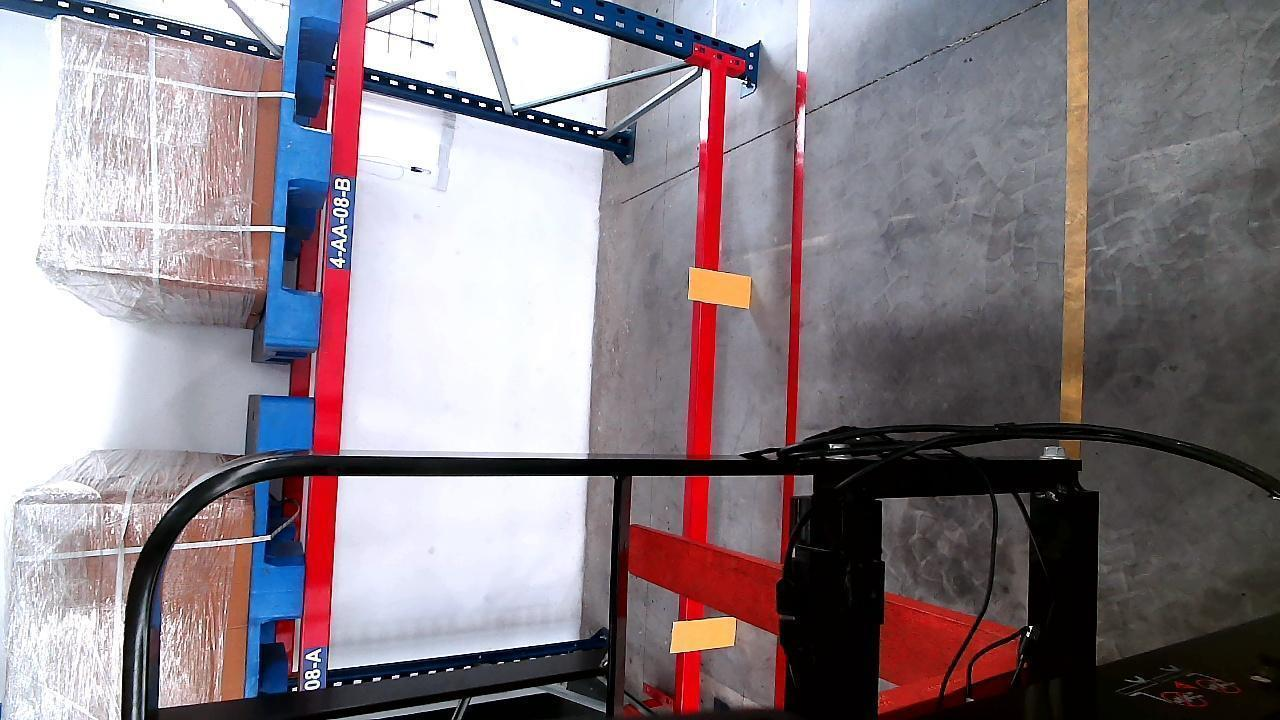yellow_line: (1062, 0, 1090, 432)
